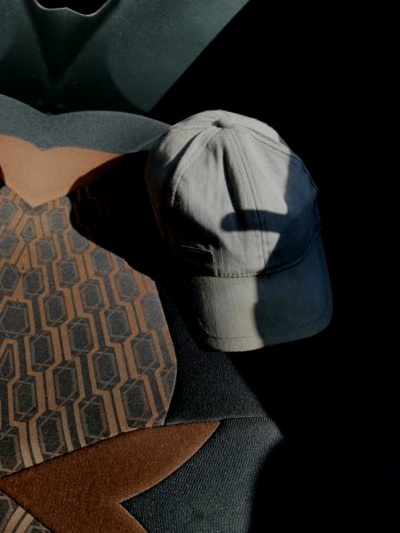Hat: (106, 92, 384, 388)
